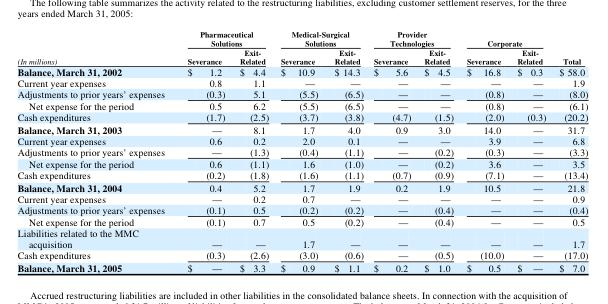table: (16, 29, 587, 273)
table column: (16, 29, 175, 273), (175, 29, 231, 273), (274, 29, 325, 273), (459, 29, 509, 273), (368, 29, 417, 273), (231, 29, 274, 273), (325, 29, 368, 273), (509, 29, 552, 273), (417, 29, 459, 273), (552, 29, 587, 273)
table column header: (16, 29, 587, 65)
table row: (16, 227, 587, 249), (16, 29, 587, 47), (16, 47, 587, 65), (16, 65, 587, 77), (16, 87, 587, 99), (16, 99, 587, 111), (16, 111, 587, 123), (16, 123, 587, 135), (16, 157, 587, 169), (16, 169, 587, 181), (16, 181, 587, 193), (16, 203, 587, 215), (16, 215, 587, 227), (16, 249, 587, 261), (16, 261, 587, 273), (16, 135, 587, 146), (16, 146, 587, 157), (16, 77, 587, 87), (16, 193, 587, 203)
table spanning cell: (16, 29, 175, 65), (175, 29, 274, 47), (274, 29, 368, 47), (459, 29, 552, 47), (368, 29, 459, 47), (552, 29, 587, 65)
